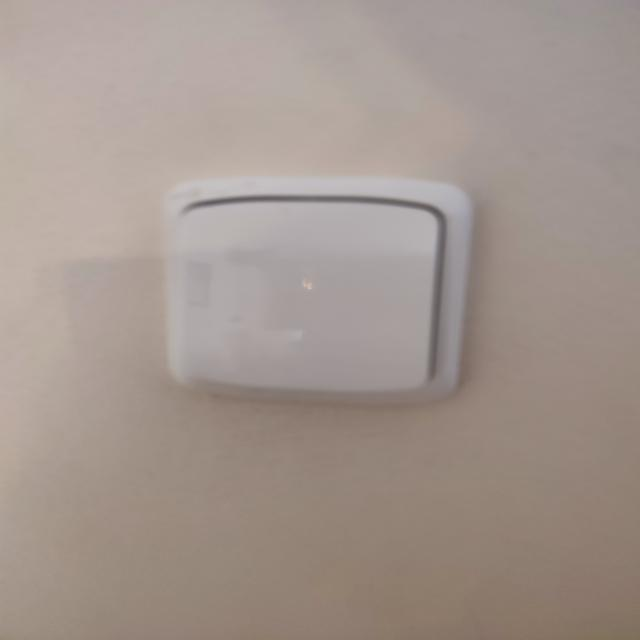house switch: (160, 178, 473, 405)
